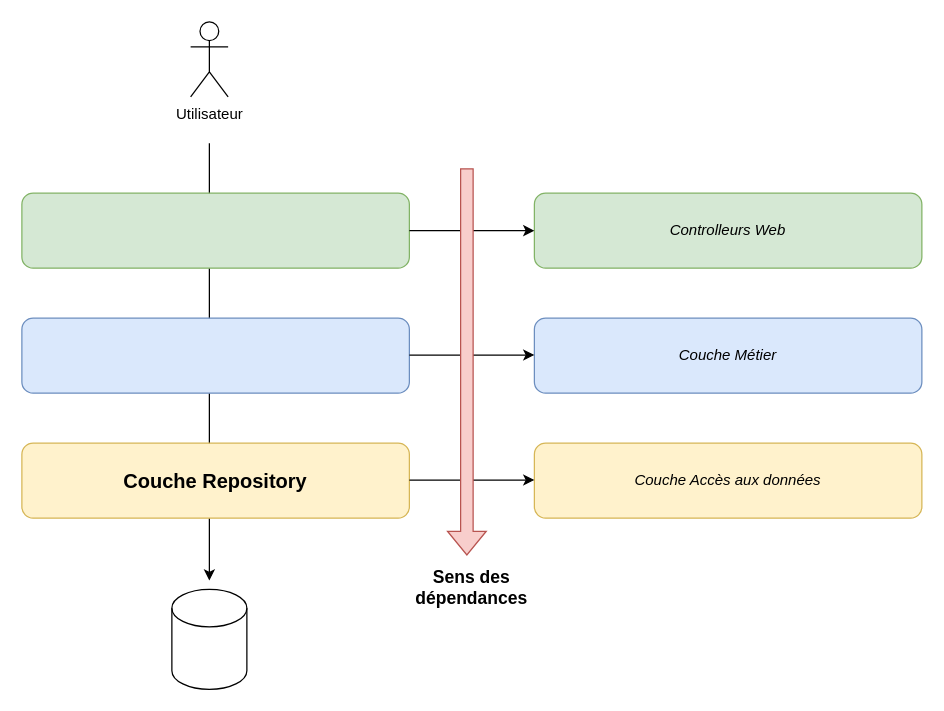
Image size: 944x711. Some labels were removed from this diagram. The centre of each missing label's shape, as x and y in pixels:
Couche Service: point 215,355
Couche Web: point 215,230
